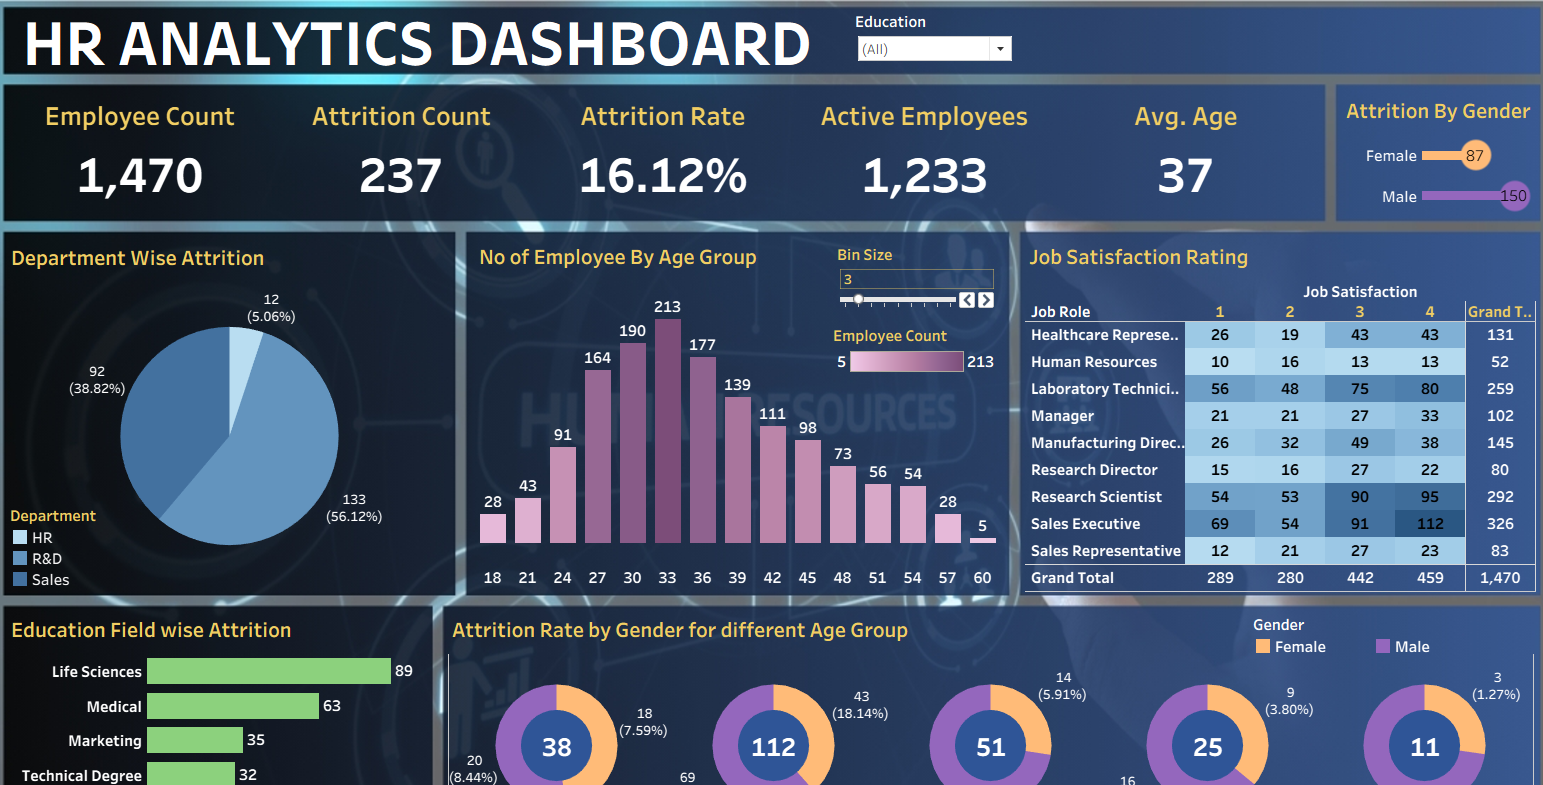

What the dashboard file says about the page in this screenshot:
{"tool":"tableau","page":{"name":"HR ANALYTICS DASHBOARD","canvas":[1580,900],"ordinal":0},"visuals":[{"type":"image","param":"Image/Screenshot_7-12-2025_20198_docs.google.com.jpeg","box":[8,8,1564,884]},{"type":"text","box":[35,24,851,59]},{"type":"filter","title":"Department Wise Attrition","param":"[federated.0rad6ux13axqer19xzir20cgcj3m].[none:Education:nk]","box":[871,24,160,58]},{"type":"worksheet","title":"KPI","mark":"Automatic","box":[25,105,1308,122]},{"type":"worksheet","title":"Attrition By Gender","mark":"Automatic","rows":["Gender"],"cols":["Calculation_1553178936209092608","Calculation_1553178936209092608"],"box":[1358,105,193,124]},{"type":"worksheet","title":"No of Employee By Age Group","mark":"Automatic","rows":["Employee Count"],"cols":["Age (bin)"],"box":[491,251,526,351]},{"type":"worksheet","title":"Job Satisfaction Rating","mark":"Square","rows":["Job Role"],"cols":["Job Satisfaction"],"box":[1041,251,511,354]},{"type":"worksheet","title":"Department Wise Attrition","mark":"Pie","box":[23,252,445,351]},{"type":"parameter","param":"[Parameters].[Parameter 1]","box":[853,257,160,71]},{"type":"legend","title":"No of Employee By Age Group","param":"[federated.0rad6ux13axqer19xzir20cgcj3m].[sum:Employee Count:qk]","box":[849,338,166,51]},{"type":"legend","title":"Department Wise Attrition","param":"[federated.0rad6ux13axqer19xzir20cgcj3m].[none:Department:nk]","box":[26,518,101,86]},{"type":"worksheet","title":"Education Field wise Attrition","mark":"Automatic","rows":["Education Field"],"cols":["Calculation_1553178936209092608"],"box":[23,624,422,250]},{"type":"worksheet","title":"Attrition Rate by Gender for different Age Group","mark":"Pie","rows":["Calculation_457959802886979585","Calculation_457959802886979585"],"cols":["CF_age band"],"box":[464,624,1086,252]},{"type":"legend","title":"Attrition Rate by Gender for different Age Group","param":"[federated.0rad6ux13axqer19xzir20cgcj3m].[none:Gender:nk]","box":[1269,627,274,43]}]}

Visuals, with their boxes on the page's 1580x900 design canvas (x1, y1, x2, y2). These are canvas units, not pixel positions in the 1543x785 screenshot, which may show the page scaled, cropped or inside an application window:
image: [left=8, top=8, right=1572, bottom=892]
text: [left=35, top=24, right=886, bottom=83]
"Department Wise Attrition" filter: [left=871, top=24, right=1031, bottom=82]
"KPI" worksheet: [left=25, top=105, right=1333, bottom=227]
"Attrition By Gender" worksheet: [left=1358, top=105, right=1551, bottom=229]
"No of Employee By Age Group" worksheet: [left=491, top=251, right=1017, bottom=602]
"Job Satisfaction Rating" worksheet (Square marks): [left=1041, top=251, right=1552, bottom=605]
"Department Wise Attrition" worksheet (Pie marks): [left=23, top=252, right=468, bottom=603]
parameter: [left=853, top=257, right=1013, bottom=328]
"No of Employee By Age Group" legend: [left=849, top=338, right=1015, bottom=389]
"Department Wise Attrition" legend: [left=26, top=518, right=127, bottom=604]
"Education Field wise Attrition" worksheet: [left=23, top=624, right=445, bottom=874]
"Attrition Rate by Gender for different Age Group" worksheet (Pie marks): [left=464, top=624, right=1550, bottom=876]
"Attrition Rate by Gender for different Age Group" legend: [left=1269, top=627, right=1543, bottom=670]
